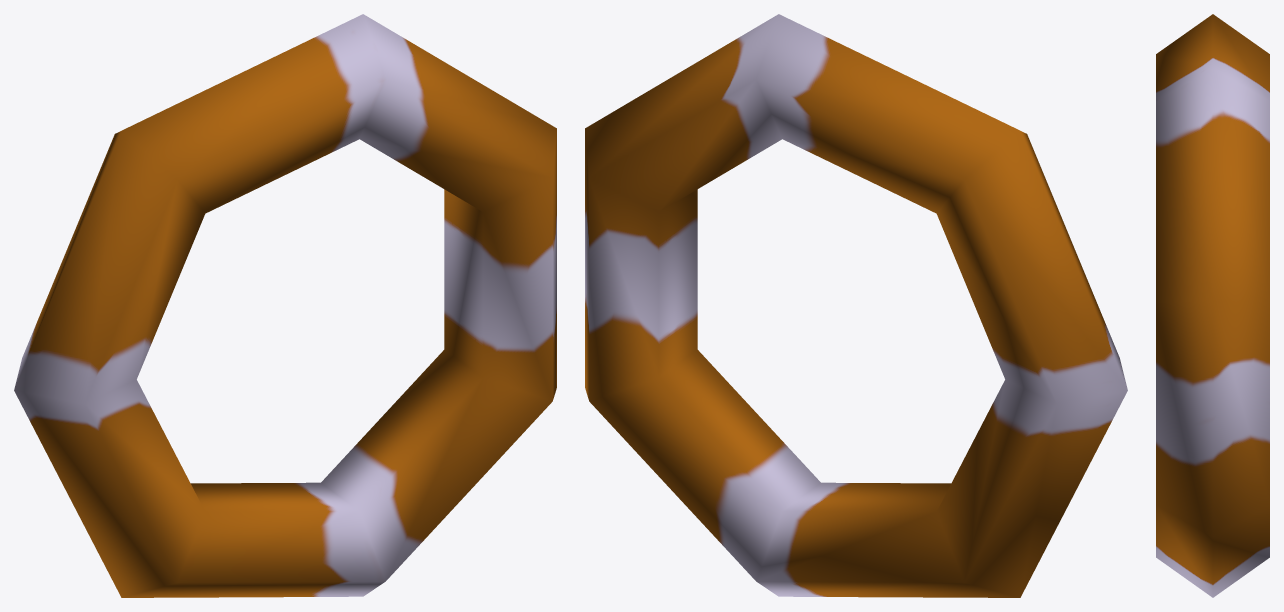
Rendered from Buoy.fbx.
3 views of the same model, side by side, from view 1: azimuth 30°, elevation 25°; view 2: azimuth 150°, elevation 25°; view 3: azimuth 270°, elevation 25° (orthographic). The views are drawn at different scales.
Visible parts, largest first — view 1: Torus; view 2: Torus; view 3: Torus.
Boxes of the visible parts, x1,y1,x2,y2 form: Torus: (14,14,556,597); Torus: (585,14,1127,597); Torus: (1156,14,1269,597).
Bounding box in the file's own units: 238 × 244 × 47.55.
